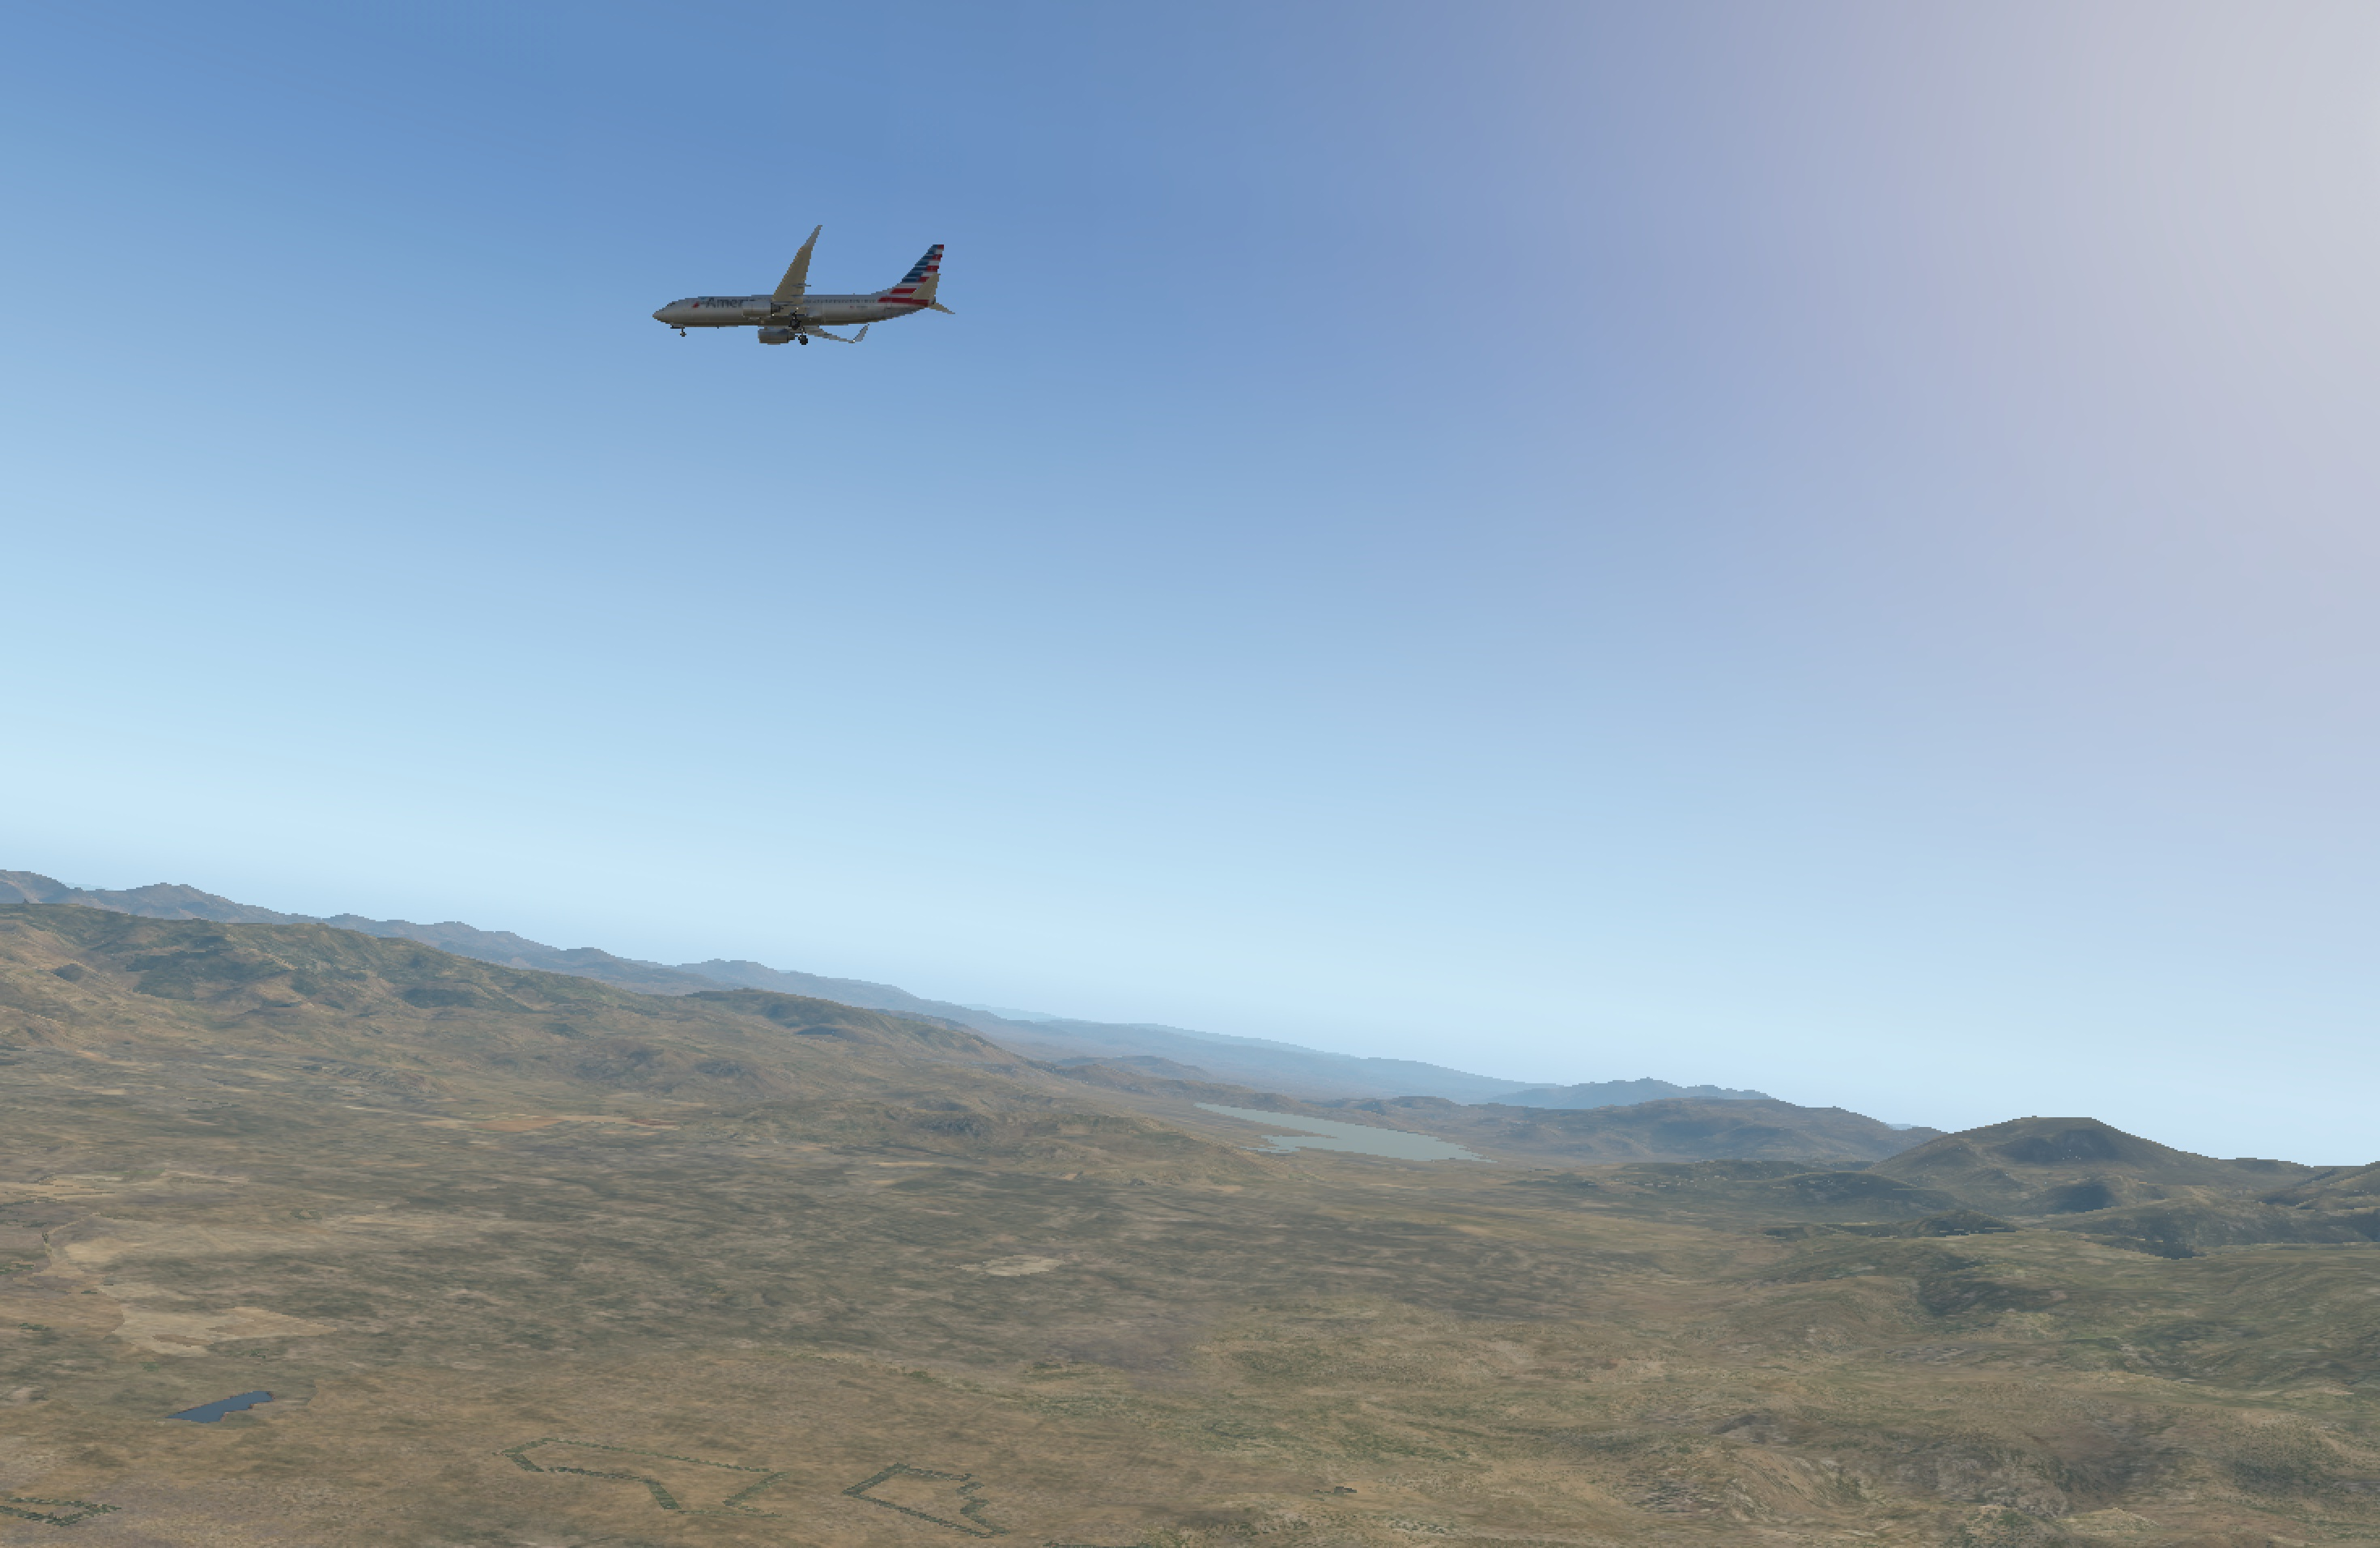aircraft: (648, 262, 929, 368)
